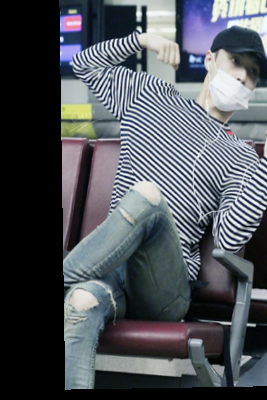mask_weared_incorrect: (195, 22, 267, 127)
